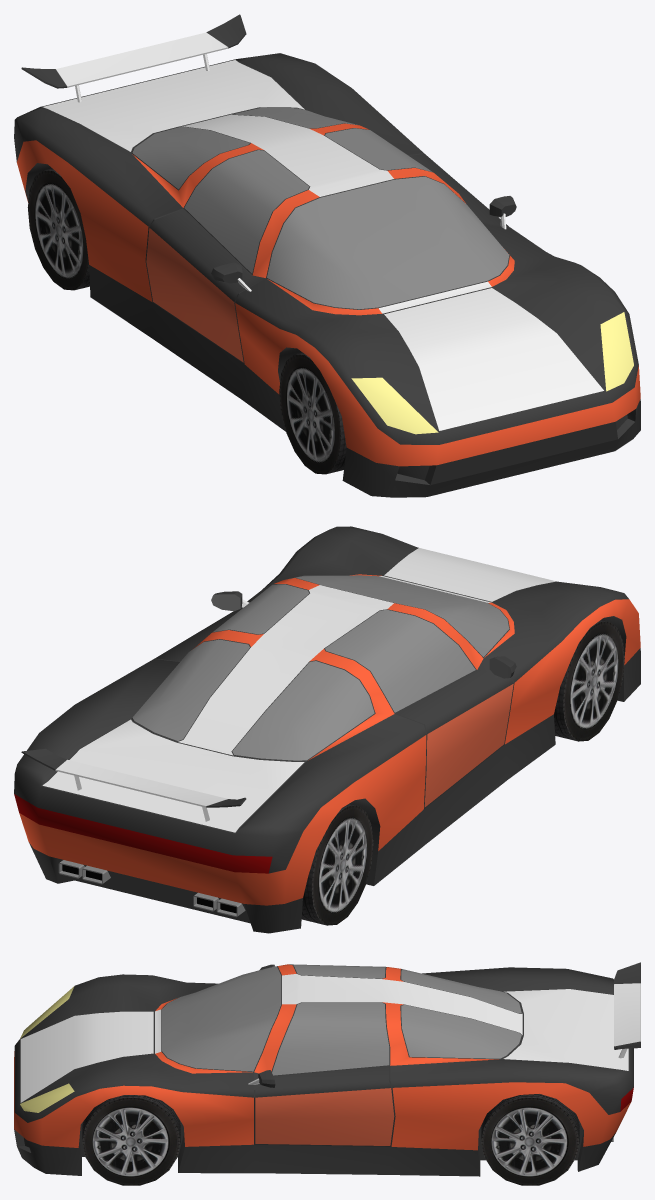
Rendered from car_4.FBX.
The picture shows the model from 3 angles, top to bottom: view 1: azimuth 30°, elevation 25°; view 2: azimuth 150°, elevation 25°; view 3: azimuth 270°, elevation 25°; orthographic projection. The views are drawn at different scales.
Parts seen in each view (by area): view 1: Object015, Cylinder064, Cylinder065; view 2: Object015, Cylinder065, Cylinder064; view 3: Object015, Cylinder066, Cylinder063.
Boxes of the visible parts, x1=… form: Object015: x1=14, y1=14, x2=640, y2=497; Cylinder064: x1=279, y1=352, x2=346, y2=474; Cylinder065: x1=27, y1=168, x2=89, y2=290; Object015: x1=14, y1=526, x2=640, y2=933; Cylinder065: x1=301, y1=803, x2=373, y2=925; Cylinder064: x1=554, y1=619, x2=624, y2=741; Object015: x1=14, y1=962, x2=640, y2=1176; Cylinder066: x1=481, y1=1094, x2=579, y2=1185; Cylinder063: x1=82, y1=1095, x2=180, y2=1185.
Size of the model in its own units: 2.14 by 1.22 by 4.88.
